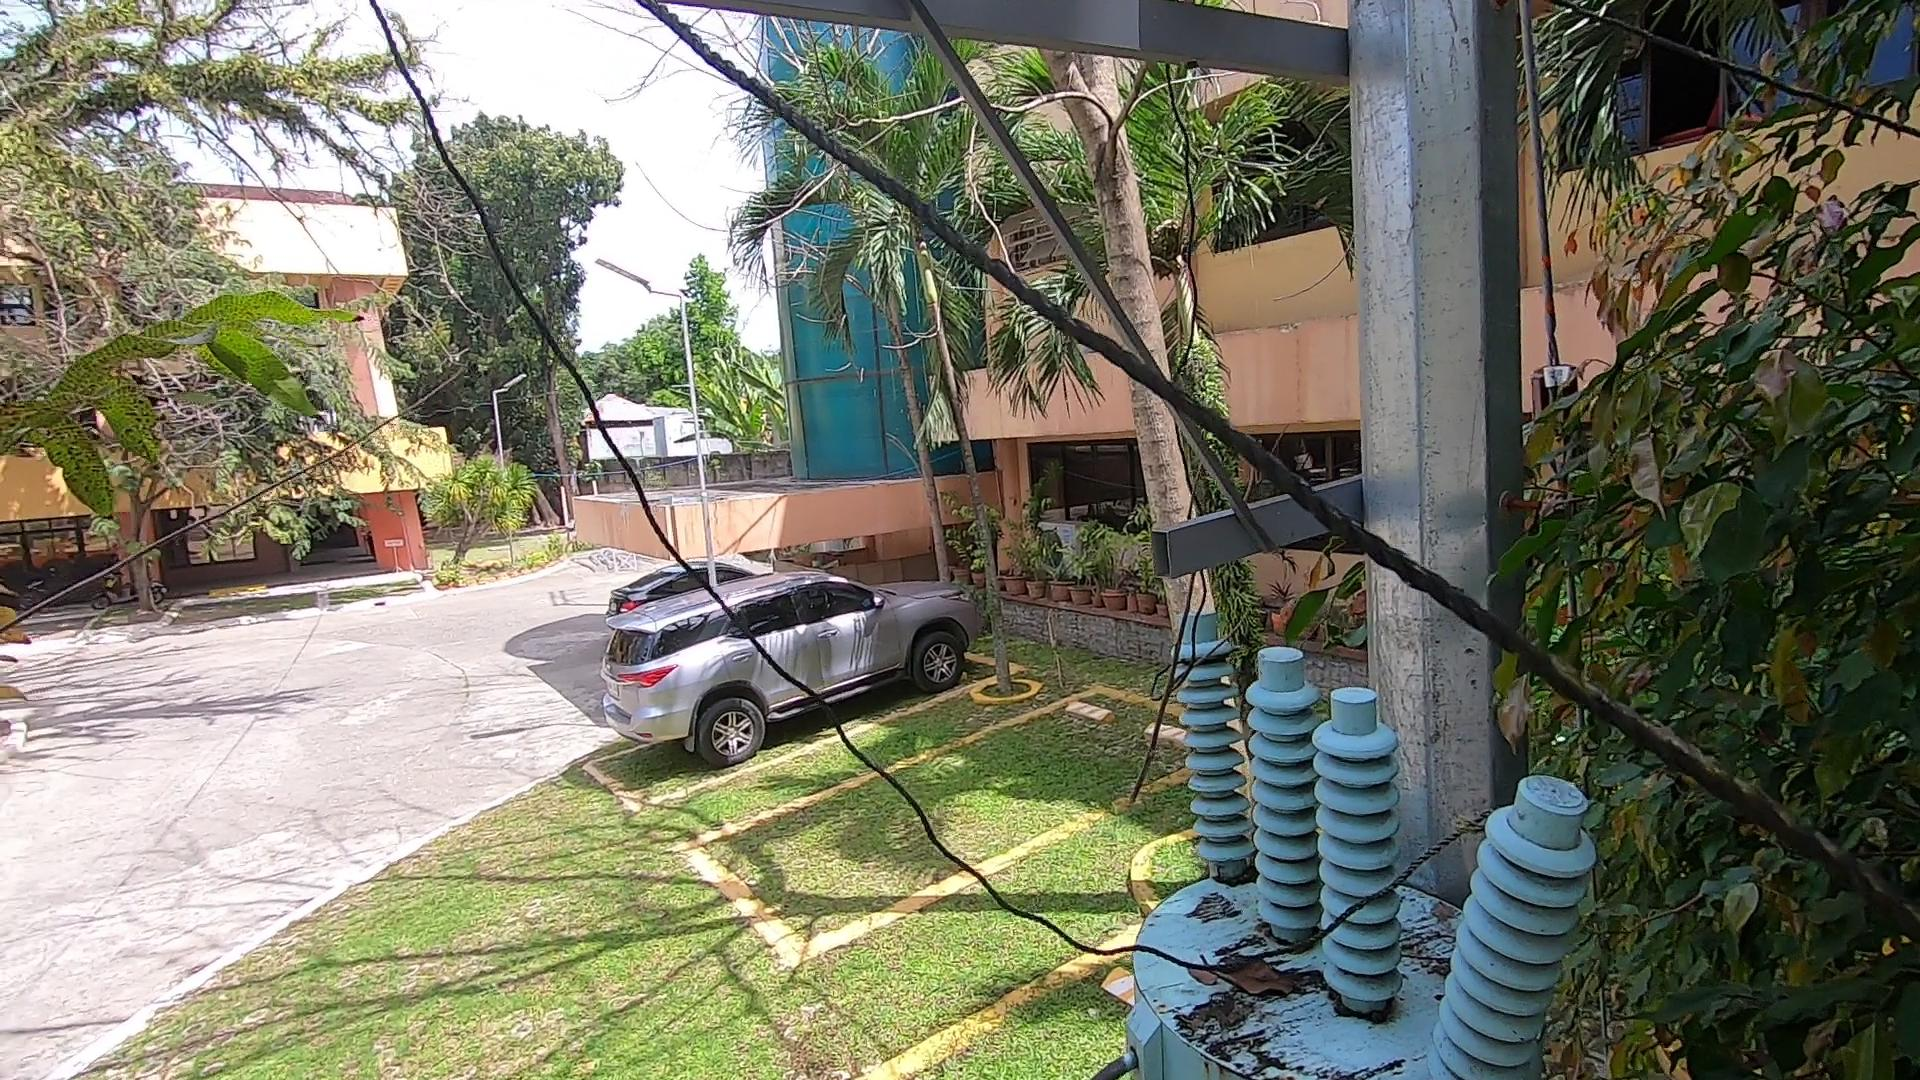leaf: (1183, 927, 1324, 1018), (1211, 852, 1270, 907)
tree branch: (1083, 393, 1302, 823)
